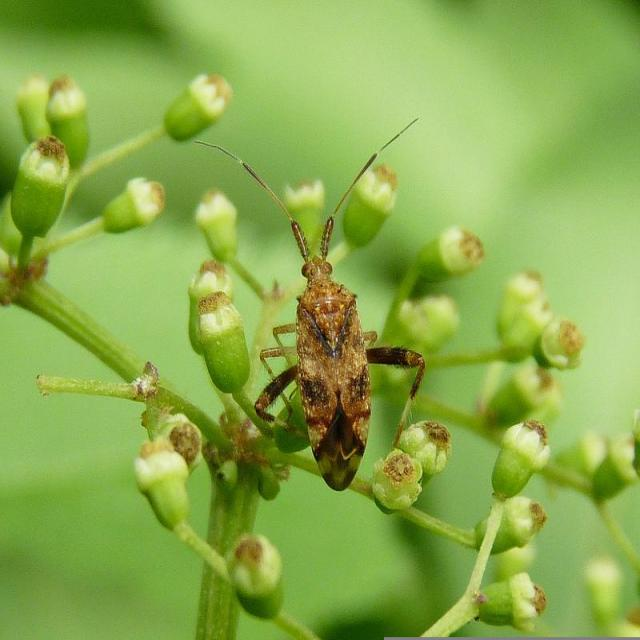Miridae-Adult-: (190, 115, 446, 504)
